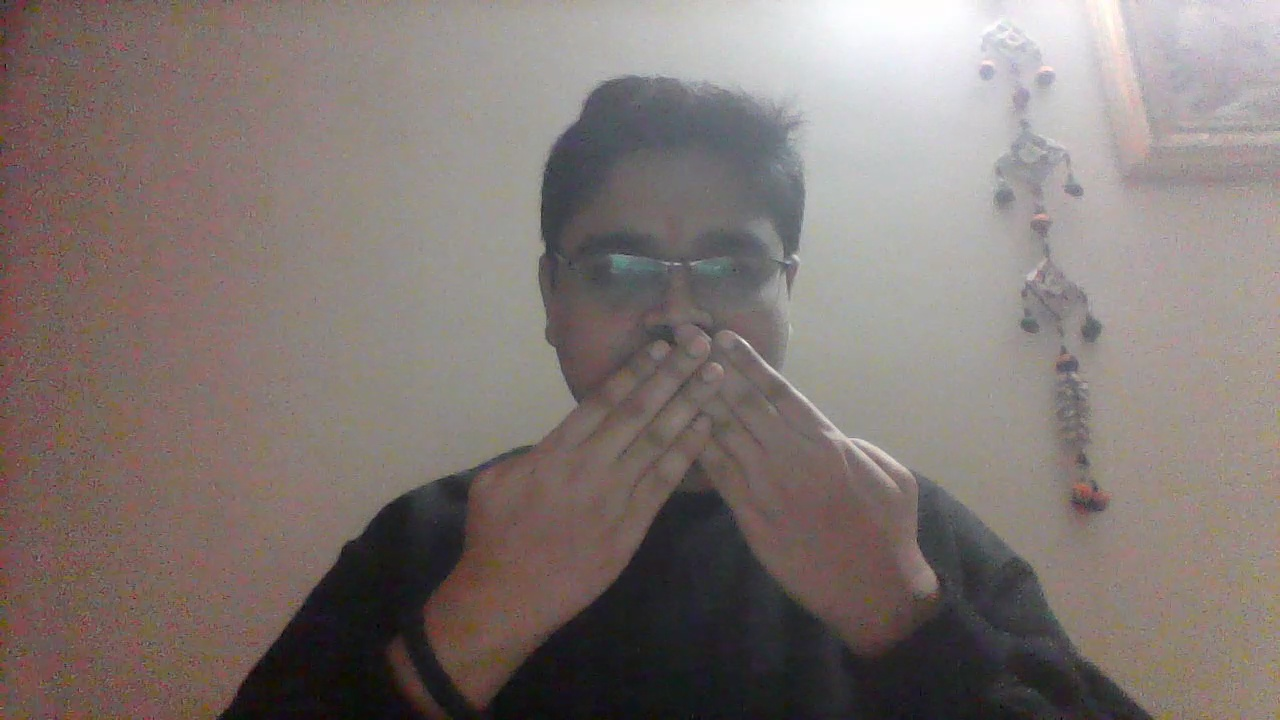Thanks: (456, 318, 923, 623)
